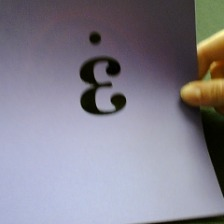violet3: (70, 29, 134, 118)
